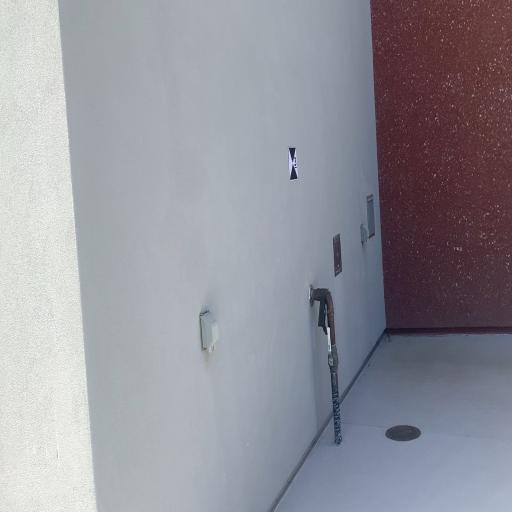target3: (288, 145, 299, 181)
